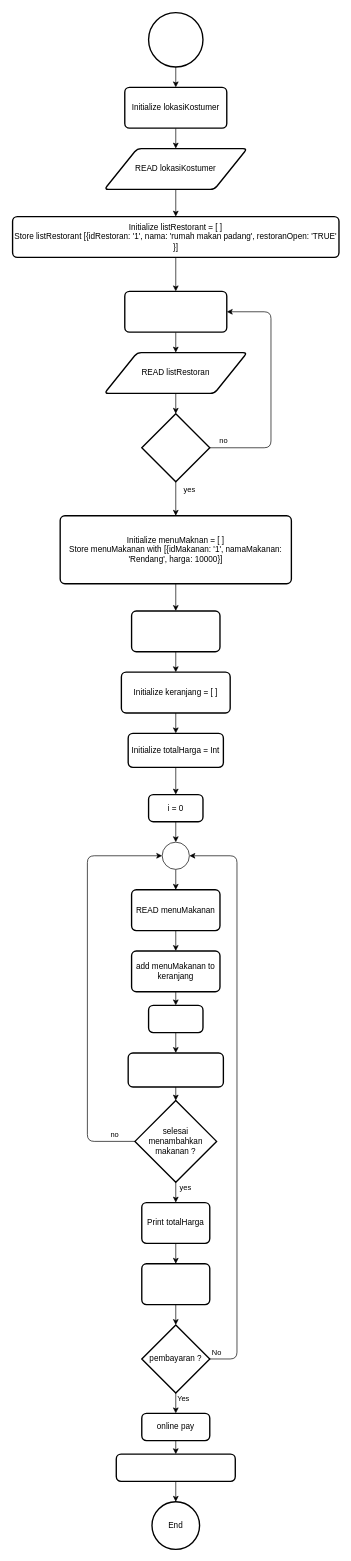
Image size: 351x1561. Some labels were removed from this diagram. The shapes that lost their labels are listed below. From the top down, each one's box as (x1, y1, x2, y2) in pixels, then its label:
(148, 12, 203, 67): Start
(124, 290, 227, 333): PRINT listRestoran
(141, 413, 210, 482): is Open ?
(131, 610, 220, 652): Print menuMakanan
(148, 1004, 203, 1033): i = i + 1
(127, 1052, 224, 1087): Store totalHarga with menuMakanan[harga]
(141, 1263, 210, 1305): Print "Lanjut ke pembayaran"
(115, 1453, 236, 1482): print "order siap dikirim ke" + lokasiKostumer
